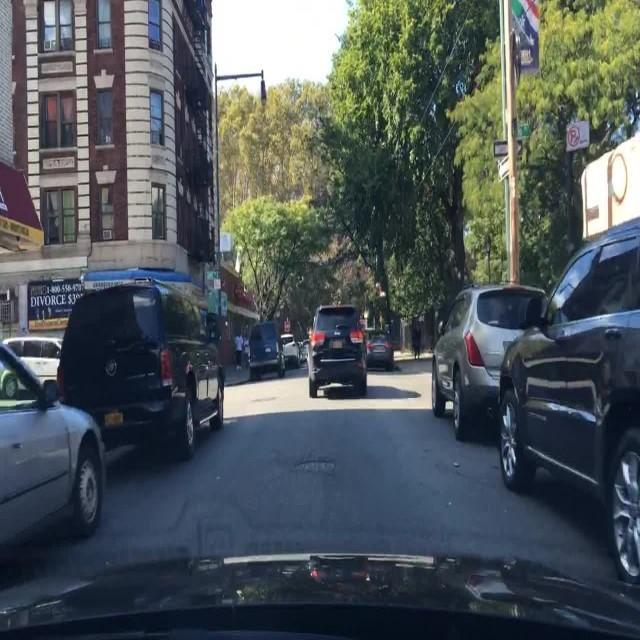normal: (307, 303, 370, 403)
